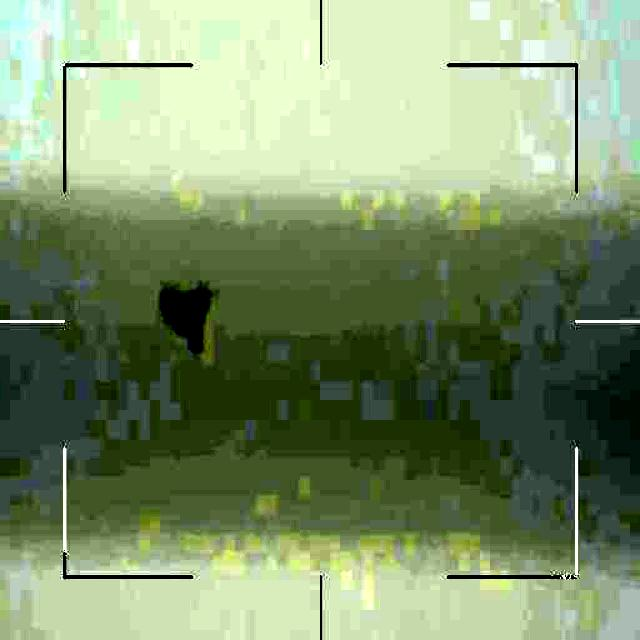bird: (151, 280, 225, 355)
